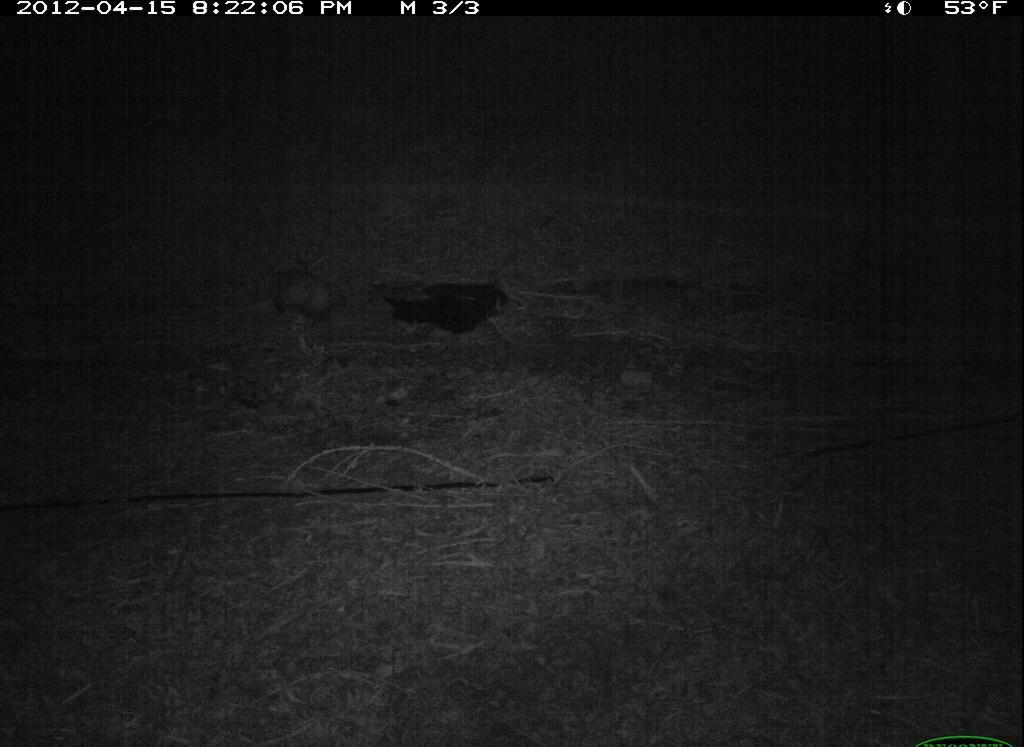opossum: (257, 238, 360, 373)
